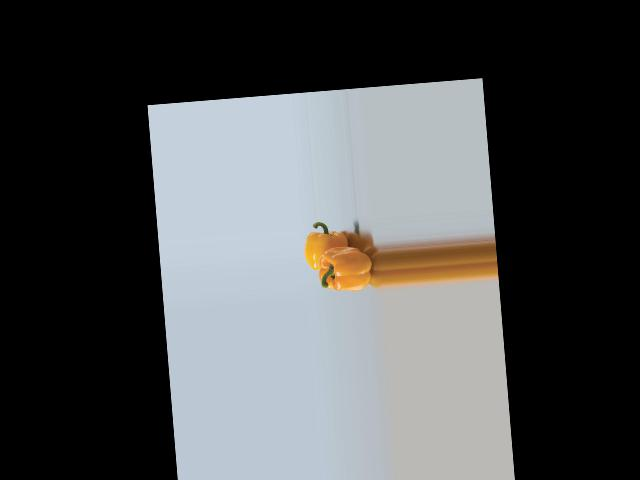bell_pepper: (302, 219, 357, 272)
